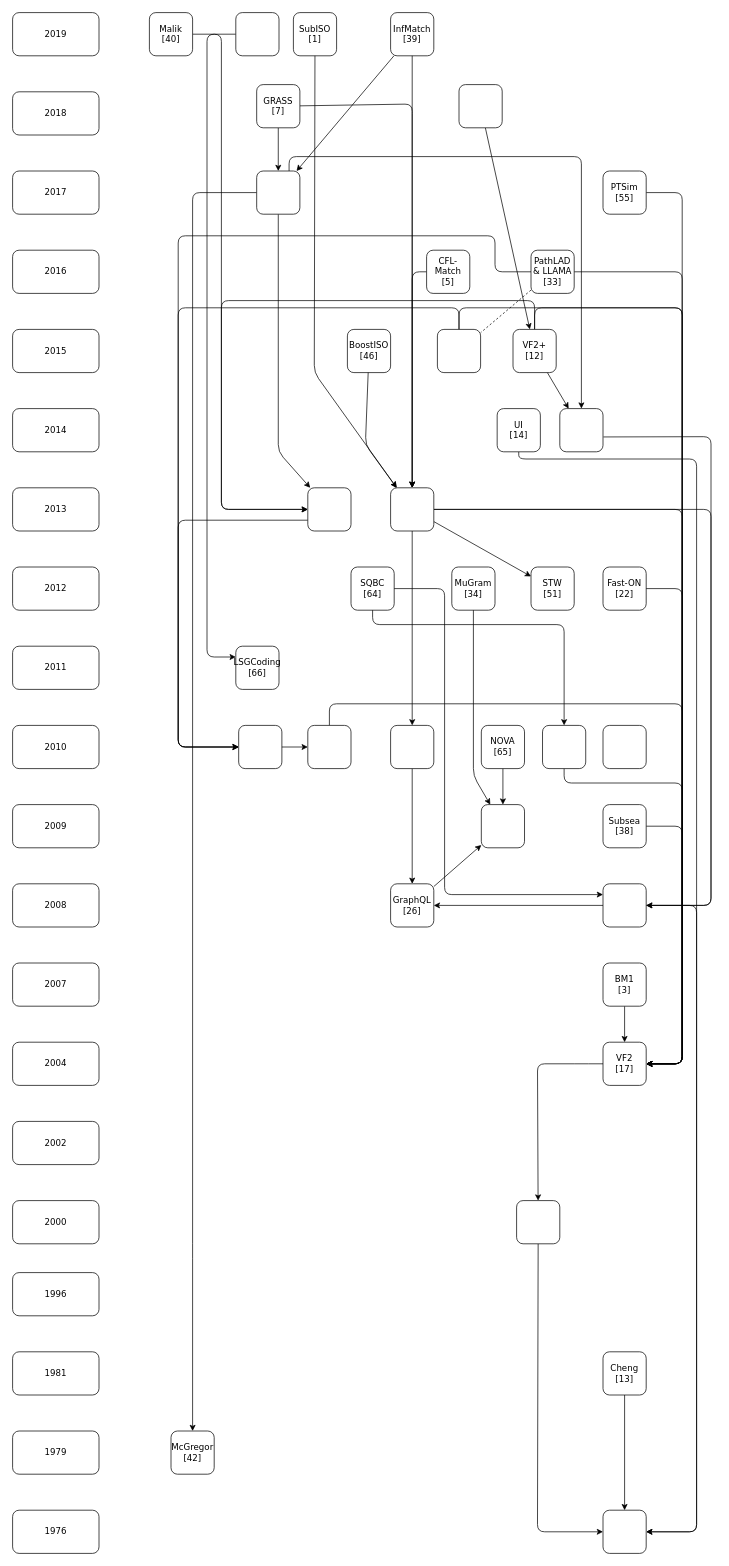
The diagram is 729 pixels wide and 1566 high, and some of its shapes have lost their labels. Each missing label, with the centre of its shape:
COSI [11]: the point at 624,747
Gaddi [61]: the point at 503,826
Glassgow [41]: the point at 459,351
ILF [59]: the point at 329,747
L2G [2]: the point at 581,430
LAD [50]: the point at 260,747
PLGCoding [67: the point at 257,34
QuickSI [49]: the point at 624,905
RI [8]: the point at 329,509
RI-DS [6]: the point at 278,192
SING [18]: the point at 564,747
SPath [63]: the point at 412,747
TurboISO [24]: the point at 412,509
Ullman [52]: the point at 624,1531
VF [16]: the point at 538,1222
VF2++ [30]: the point at 480,106
